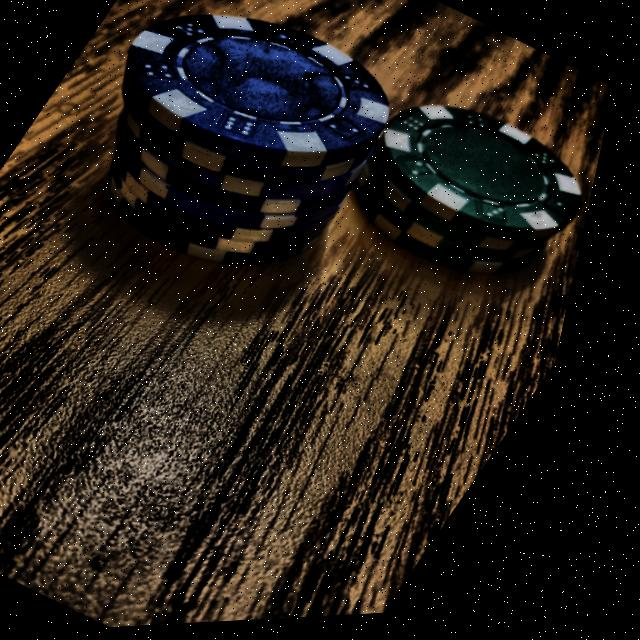Chip: (25, 0, 471, 321), (311, 65, 624, 336)
